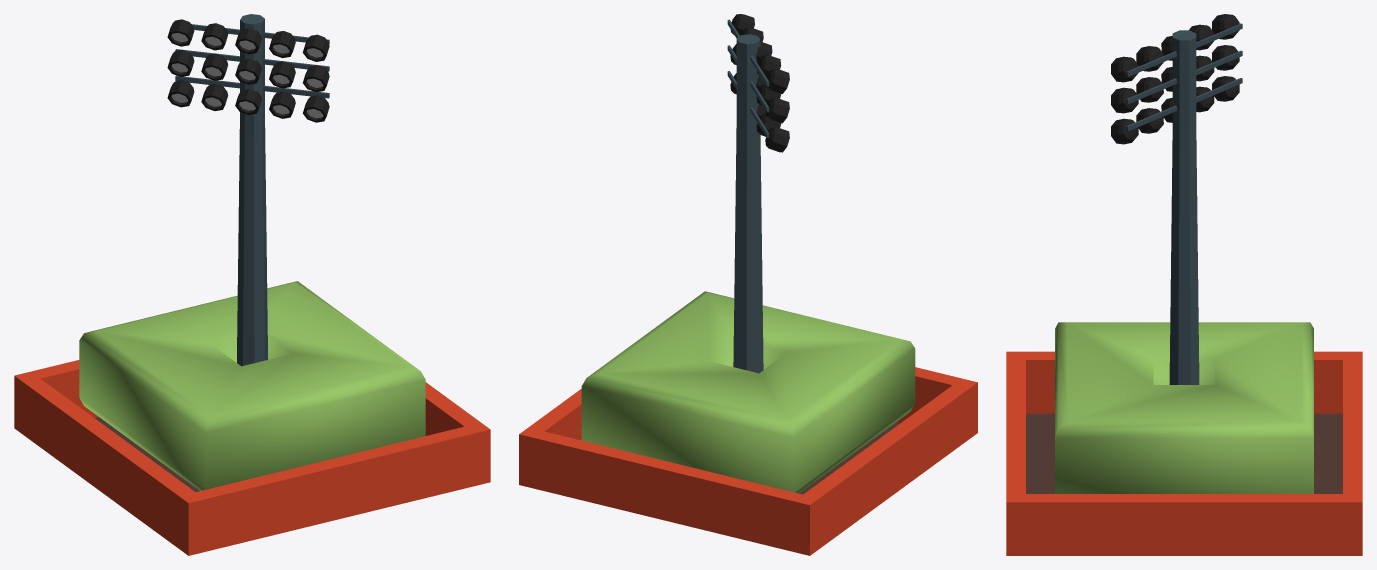
Rendered from stadium_lights.fbx.
3 renders of one model, left to right at view 1: azimuth 30°, elevation 25°; view 2: azimuth 150°, elevation 25°; view 3: azimuth 270°, elevation 25°, orthographic. The views are drawn at different scales.
Visible parts, largest first — view 1: stadium_lights; view 2: stadium_lights; view 3: stadium_lights.
Boxes of the visible parts, x1,y1,x2,y2 form: stadium_lights: (14,14,490,555); stadium_lights: (519,14,977,555); stadium_lights: (1006,14,1362,555).
Bounding box in the file's own units: 600 × 828 × 600.
